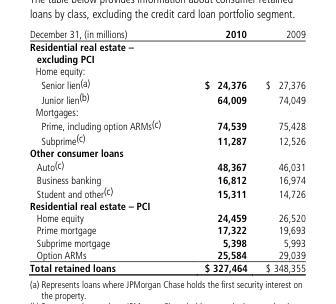table: (28, 28, 304, 272)
table column: (28, 28, 181, 272), (181, 28, 255, 272), (255, 28, 304, 272)
table column header: (28, 28, 304, 40)
table projected row header: (28, 40, 304, 65), (28, 146, 304, 158), (28, 200, 304, 212), (28, 65, 304, 76), (28, 106, 304, 117)
table row: (28, 40, 304, 65), (28, 76, 304, 91), (28, 91, 304, 106), (28, 117, 304, 132), (28, 158, 304, 173), (28, 185, 304, 200), (28, 132, 304, 146), (28, 248, 304, 261), (28, 28, 304, 40), (28, 146, 304, 158), (28, 173, 304, 185), (28, 200, 304, 212), (28, 212, 304, 224), (28, 224, 304, 236), (28, 236, 304, 248), (28, 65, 304, 76), (28, 106, 304, 117), (28, 261, 304, 272)
